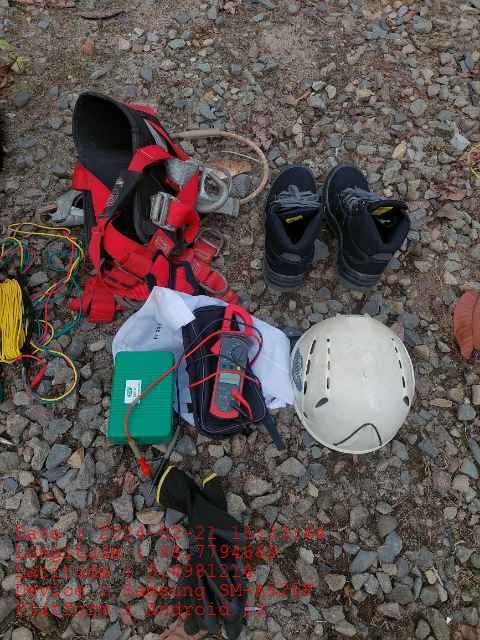HELM: (290, 313, 416, 453)
SEPATU: (269, 164, 411, 289)
